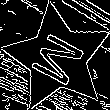M_SE: (25, 26, 90, 90)
